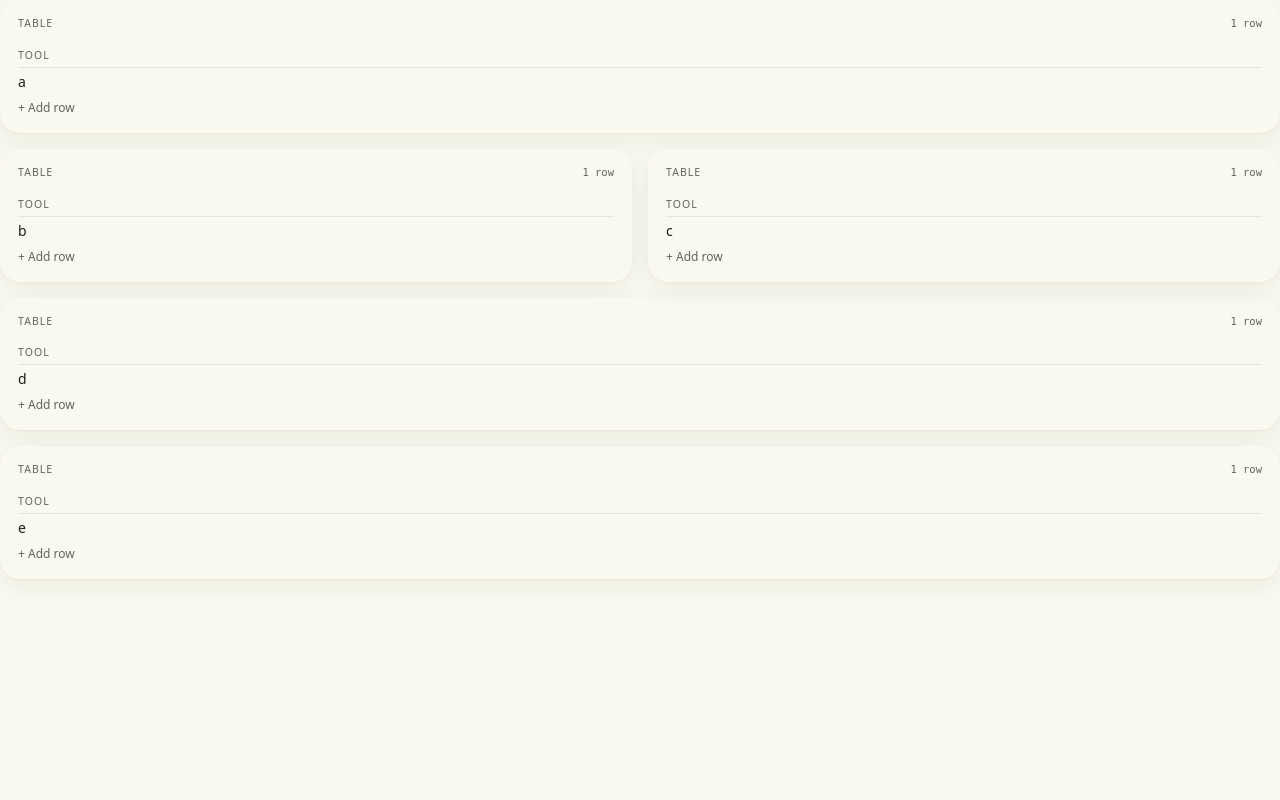
Test: ⌫/⌘⌫ deletes a block range in one step (KAN-373) › deletes 3 blocks in one write, confirms once, and stages one toast
This screenshot has width=1280, height=800.
Step 1. Press ArrowDown in the element showing "table 1 row Tool + Add row", box [0,149,632,282]
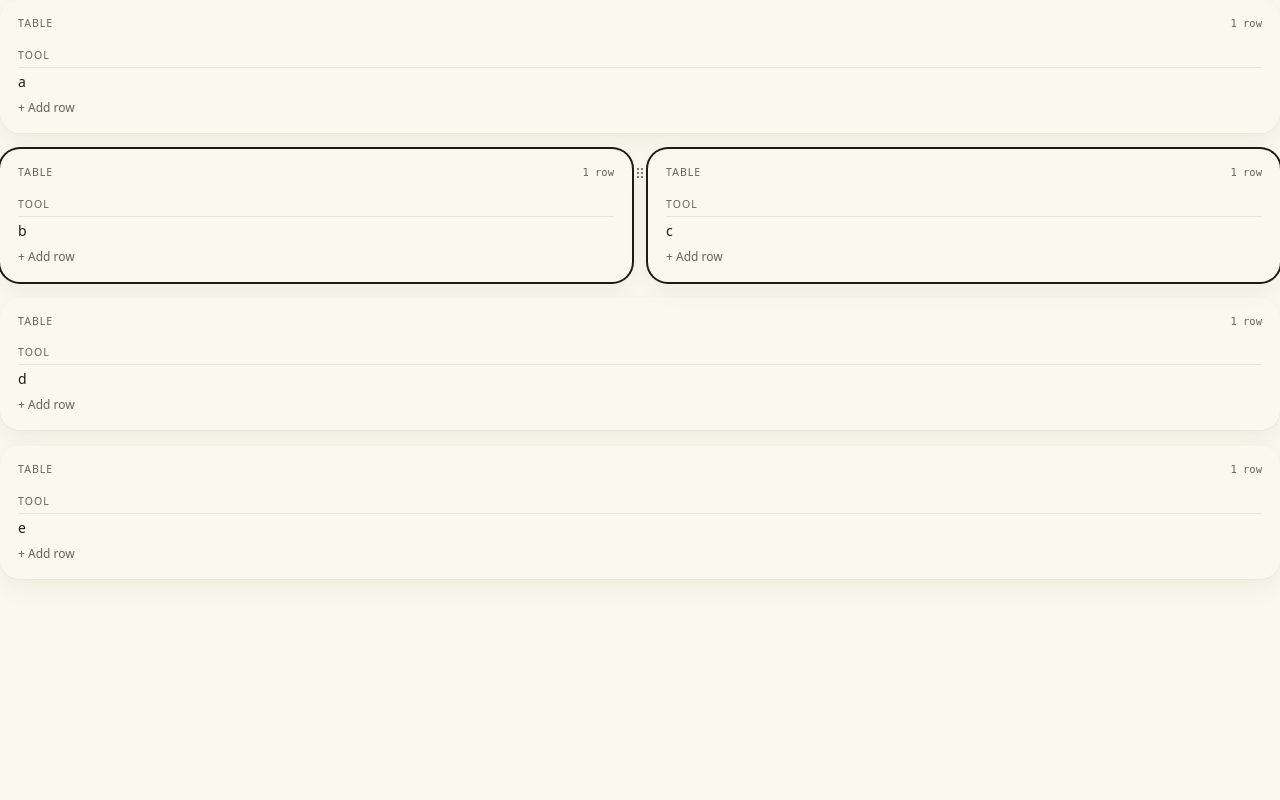
Step 2. Press ArrowDown in the element showing "table 1 row Tool + Add row", box [648,149,1279,282]
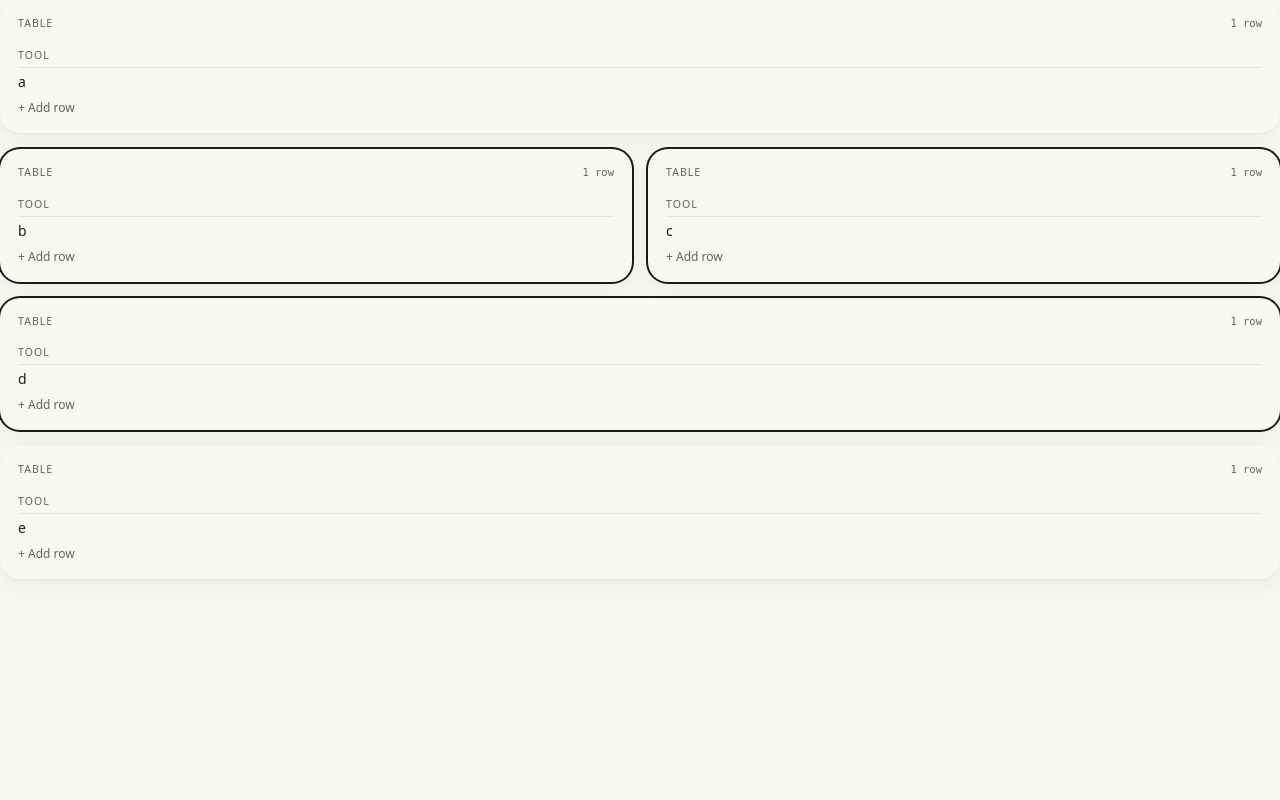
Step 3. Press Backspace in the element showing "table 1 row Tool + Add row", box [0,298,1279,430]
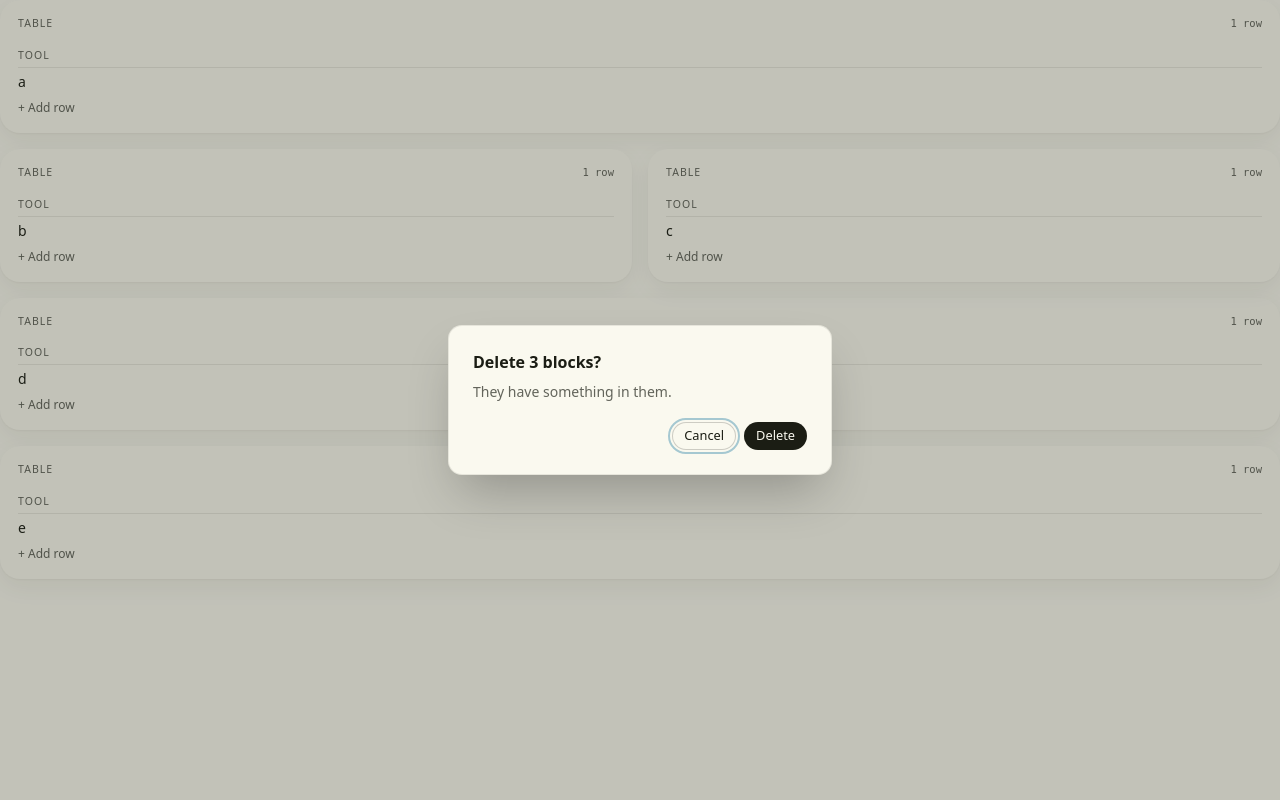
Now the number of dialogs is 1, box [448,325,832,475]
Now the heading "Delete 3 blocks?" is shown, box [473,351,601,373]
Step 4. Click the button "Delete" → (776,436), box [744,422,807,450]
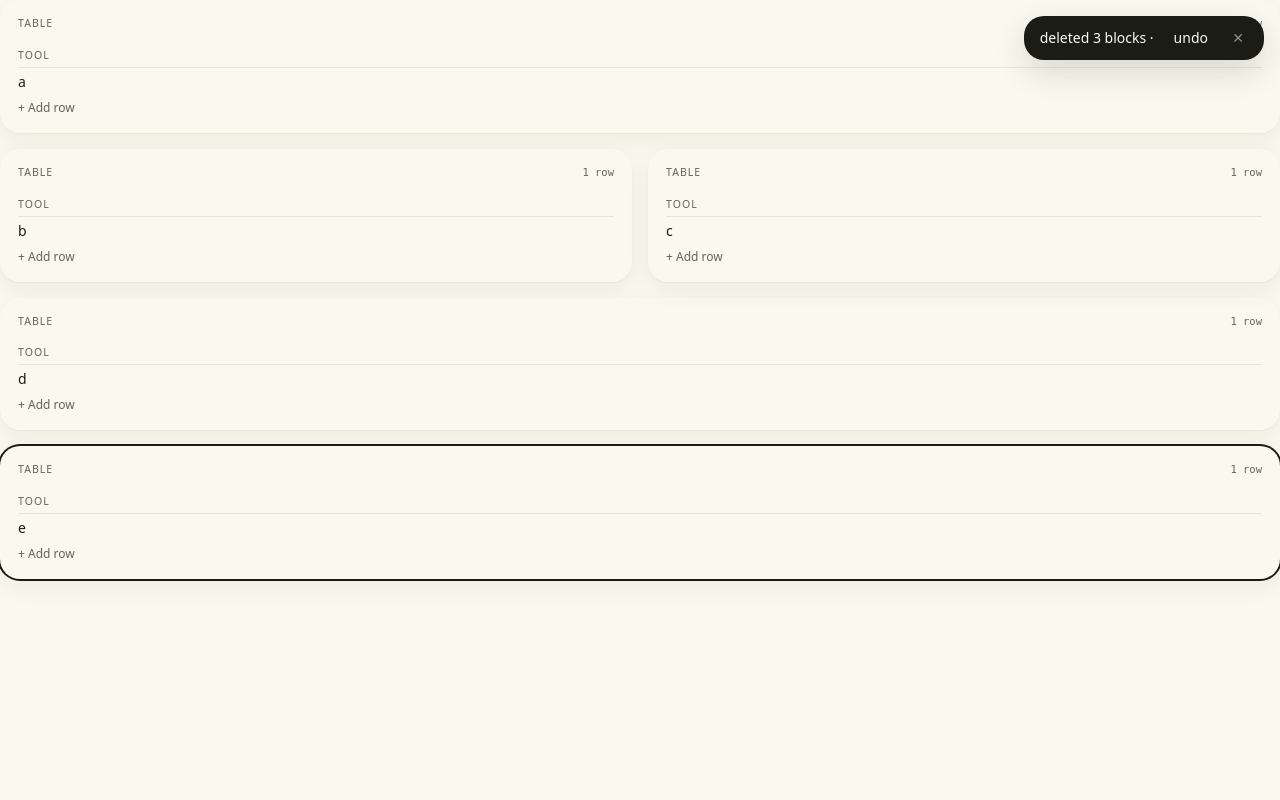
Now the text "deleted 3 blocks ·" is shown, box [1040,28,1154,48]
Now the button "undo" is shown, box [1166,26,1216,50]
